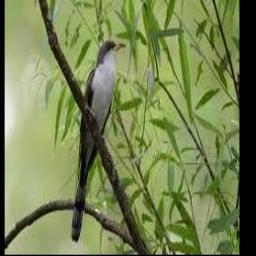Cuckoo: (71, 40, 125, 240)
